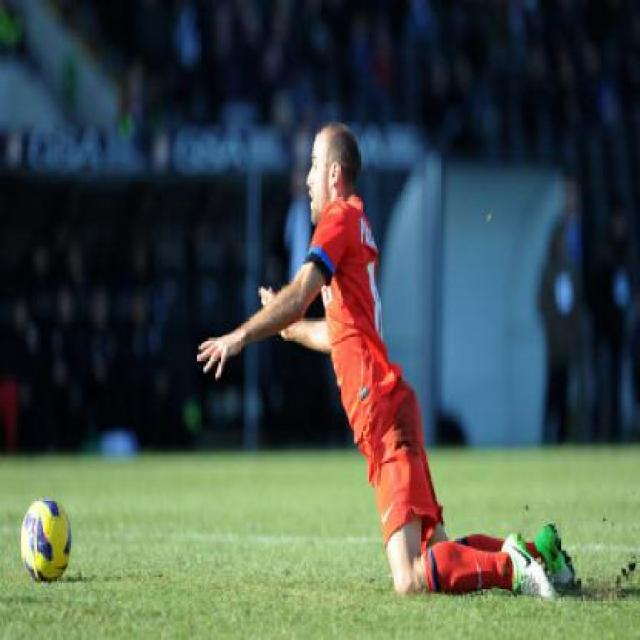fall: (185, 132, 600, 577)
